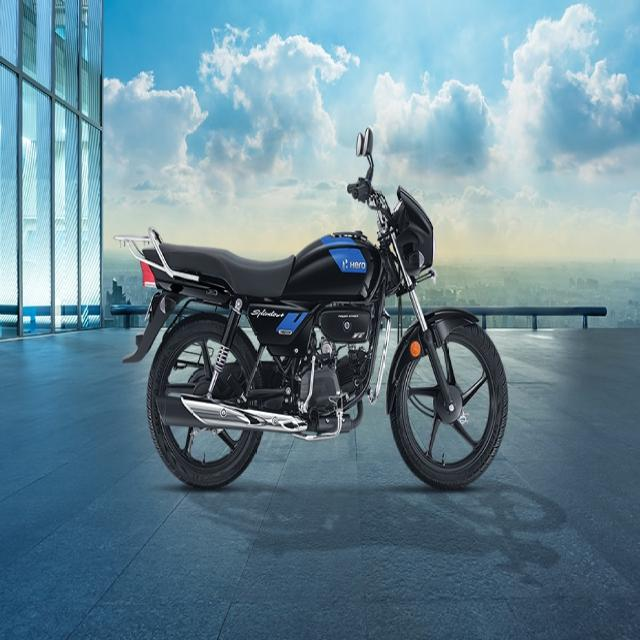MOTORCYCLE: (119, 122, 505, 486)
